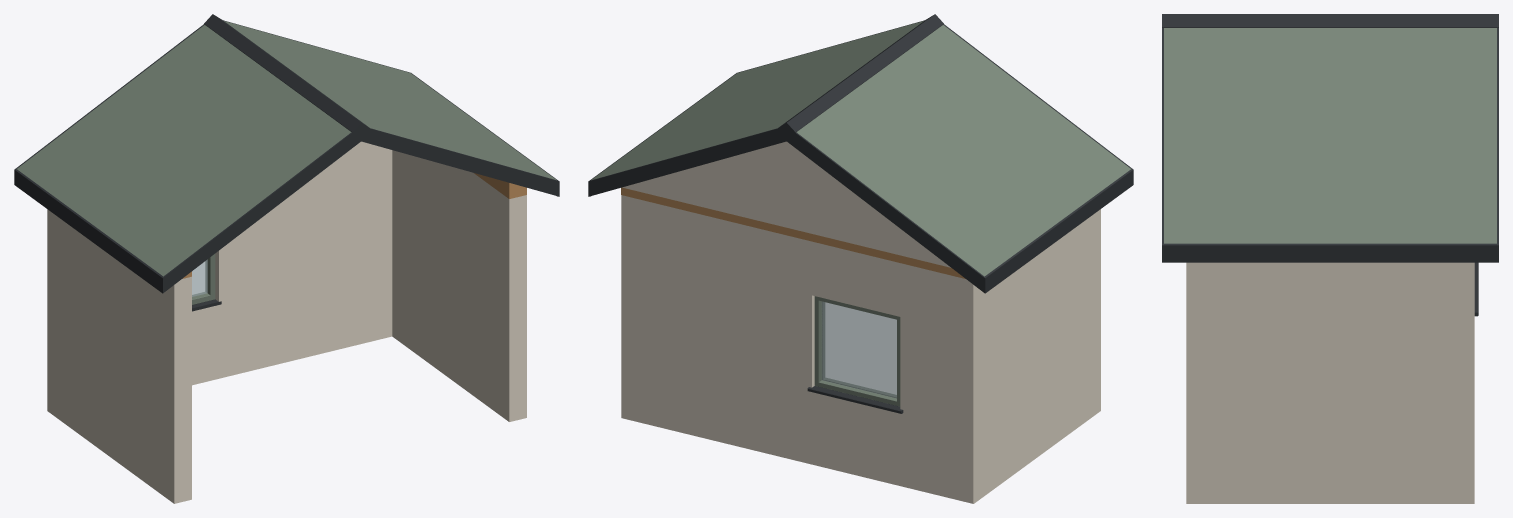
Rendered from Gebaeudeecke01.fbx.
The picture shows the model from 3 angles, left to right: view 1: azimuth 30°, elevation 25°; view 2: azimuth 150°, elevation 25°; view 3: azimuth 270°, elevation 25°; orthographic projection. The views are drawn at different scales.
Parts seen in each view (by area): view 1: Gebaeudeecke01_Skin_L, Gebaeudeecke01_FrontWall, Gebaeudeecke01_SideWall_R, Gebaeudeecke01_SideWall_L, Gebaeudeecke01_Skin_R, Gebaeudeecke01_Verge_Rear, Gebaeudeecke01_RidgeCap, Gebaeudeecke01_Fascia_L, Gebaeudeecke01_WindowFrame; view 2: Gebaeudeecke01_FrontWall, Gebaeudeecke01_Skin_L, Gebaeudeecke01_SideWall_L, Gebaeudeecke01_GableFill, Gebaeudeecke01_Skin_R, Gebaeudeecke01_Verge_Front, Gebaeudeecke01_Glass, Gebaeudeecke01_Plate_Front, Gebaeudeecke01_RidgeCap, Gebaeudeecke01_Fascia_L, Gebaeudeecke01_WindowFrame, Gebaeudeecke01_Sill; view 3: Gebaeudeecke01_Skin_R, Gebaeudeecke01_SideWall_R, Gebaeudeecke01_Fascia_R, Gebaeudeecke01_FrontWall, Gebaeudeecke01_RidgeCap, Gebaeudeecke01_Verge_Front, Gebaeudeecke01_Verge_Rear.
Boxes of the visible parts, x1,y1,x2,y2 form: Gebaeudeecke01_Skin_L: [17, 25, 351, 276]; Gebaeudeecke01_FrontWall: [47, 141, 392, 417]; Gebaeudeecke01_SideWall_R: [392, 150, 526, 421]; Gebaeudeecke01_SideWall_L: [57, 216, 191, 503]; Gebaeudeecke01_Skin_R: [224, 21, 556, 180]; Gebaeudeecke01_Verge_Rear: [163, 126, 559, 293]; Gebaeudeecke01_RidgeCap: [204, 14, 369, 132]; Gebaeudeecke01_Fascia_L: [14, 169, 163, 293]; Gebaeudeecke01_WindowFrame: [192, 254, 215, 304]; Gebaeudeecke01_FrontWall: [621, 195, 983, 503]; Gebaeudeecke01_Skin_L: [796, 25, 1130, 276]; Gebaeudeecke01_SideWall_L: [984, 209, 1100, 496]; Gebaeudeecke01_GableFill: [622, 141, 950, 267]; Gebaeudeecke01_Skin_R: [591, 21, 923, 180]; Gebaeudeecke01_Verge_Front: [588, 126, 985, 293]; Gebaeudeecke01_Glass: [821, 301, 896, 398]; Gebaeudeecke01_Plate_Front: [621, 187, 965, 278]; Gebaeudeecke01_RidgeCap: [778, 14, 943, 132]; Gebaeudeecke01_Fascia_L: [984, 169, 1133, 293]; Gebaeudeecke01_WindowFrame: [814, 296, 900, 406]; Gebaeudeecke01_Sill: [807, 386, 903, 413]; Gebaeudeecke01_Skin_R: [1164, 28, 1496, 243]; Gebaeudeecke01_SideWall_R: [1186, 262, 1451, 503]; Gebaeudeecke01_Fascia_R: [1162, 243, 1498, 262]; Gebaeudeecke01_FrontWall: [1451, 262, 1474, 503]; Gebaeudeecke01_RidgeCap: [1162, 14, 1498, 27]; Gebaeudeecke01_Verge_Front: [1497, 28, 1498, 244]; Gebaeudeecke01_Verge_Rear: [1162, 28, 1163, 244].
Size of the model in its own units: 540 by 450 by 350.
